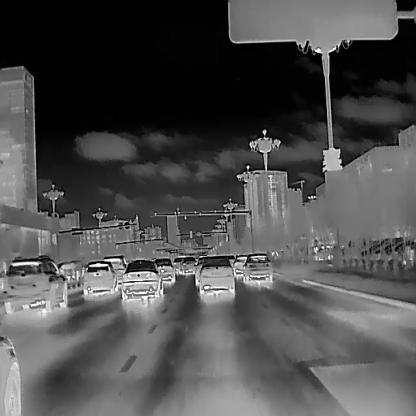car: (3, 255, 68, 314), (121, 260, 163, 300), (196, 257, 234, 294), (81, 260, 118, 296), (239, 251, 272, 284), (102, 254, 127, 283), (154, 256, 176, 284), (194, 253, 209, 287), (230, 253, 249, 277), (178, 255, 195, 273), (171, 256, 185, 274)
